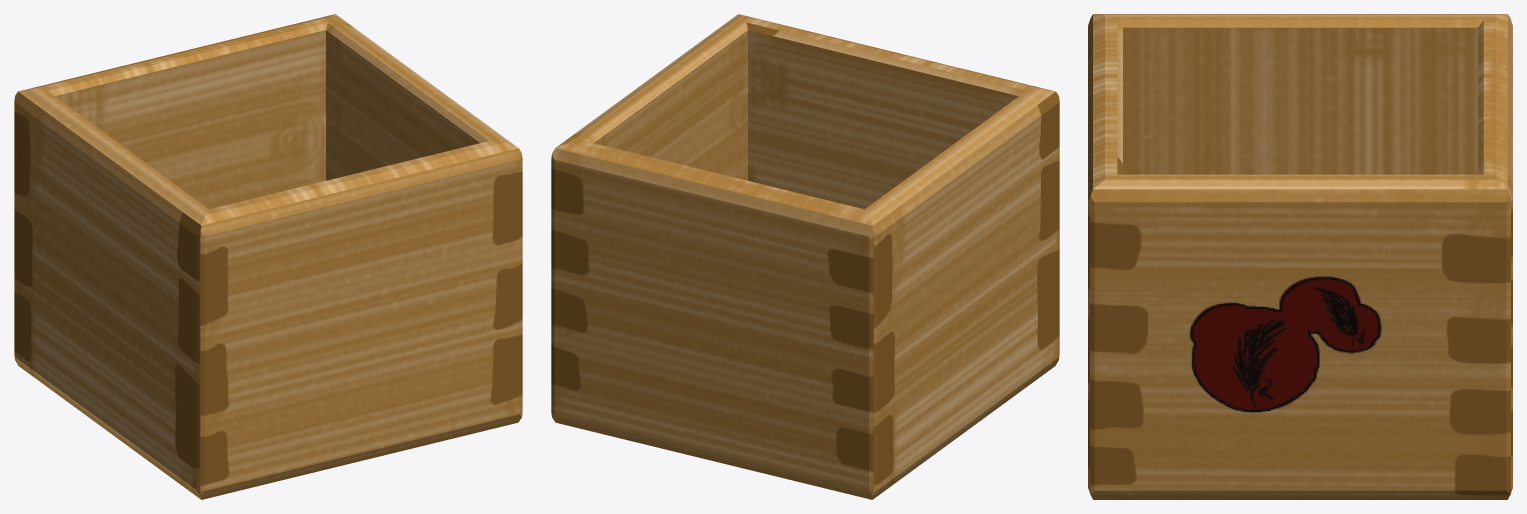
Rendered from sake čaša fbx- negativni lik.fbx.
The picture shows the model from 3 angles, left to right: view 1: azimuth 30°, elevation 25°; view 2: azimuth 150°, elevation 25°; view 3: azimuth 270°, elevation 25°; orthographic projection. The views are drawn at different scales.
Visible parts, largest first — view 1: sake cup; view 2: sake cup; view 3: sake cup.
Part boxes in pixels (x1,y1,x2,y2): sake cup: [14, 14, 522, 499]; sake cup: [551, 14, 1059, 499]; sake cup: [1088, 14, 1512, 499].
Bounding box in the file's own units: 23.96 × 19.91 × 23.96.
Materials: 1 (1 with a texture image).
